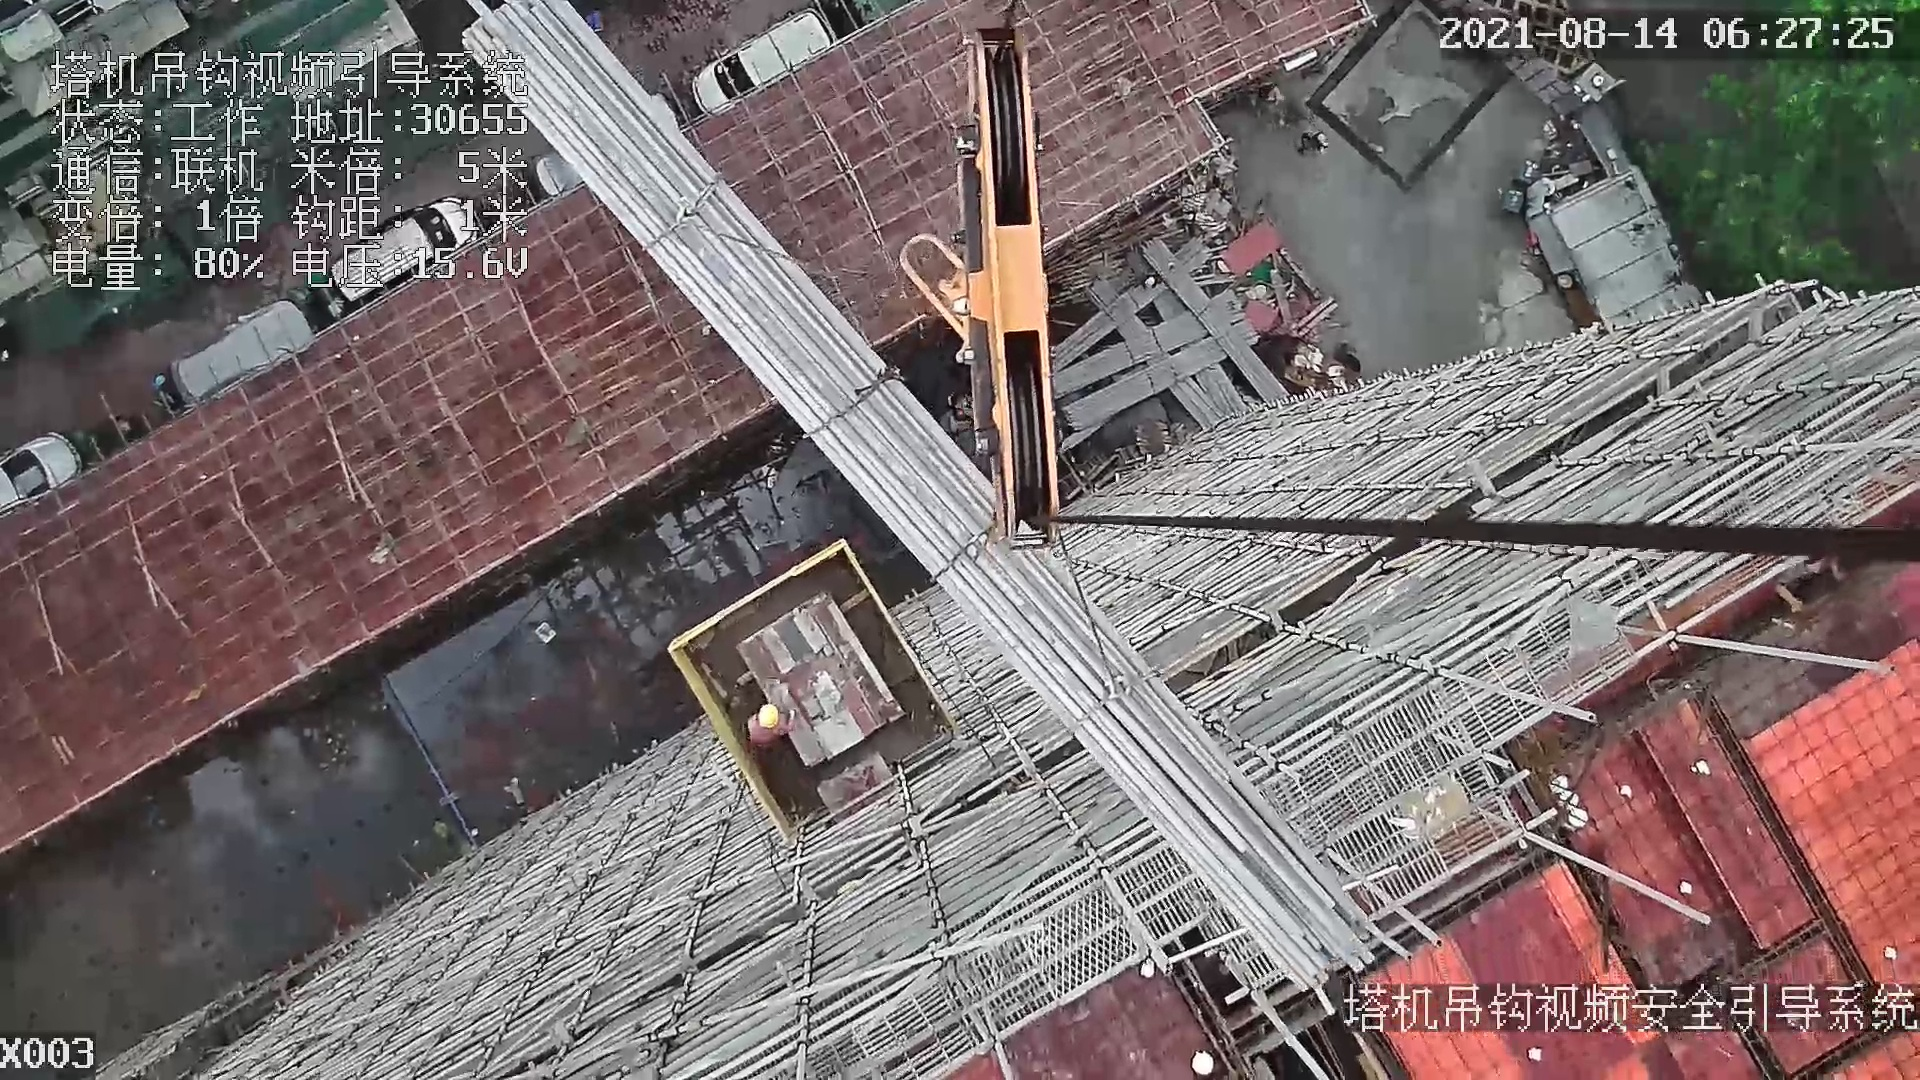helmet: (756, 694, 793, 726)
hook: (962, 37, 1071, 550)
person: (742, 701, 794, 748)
